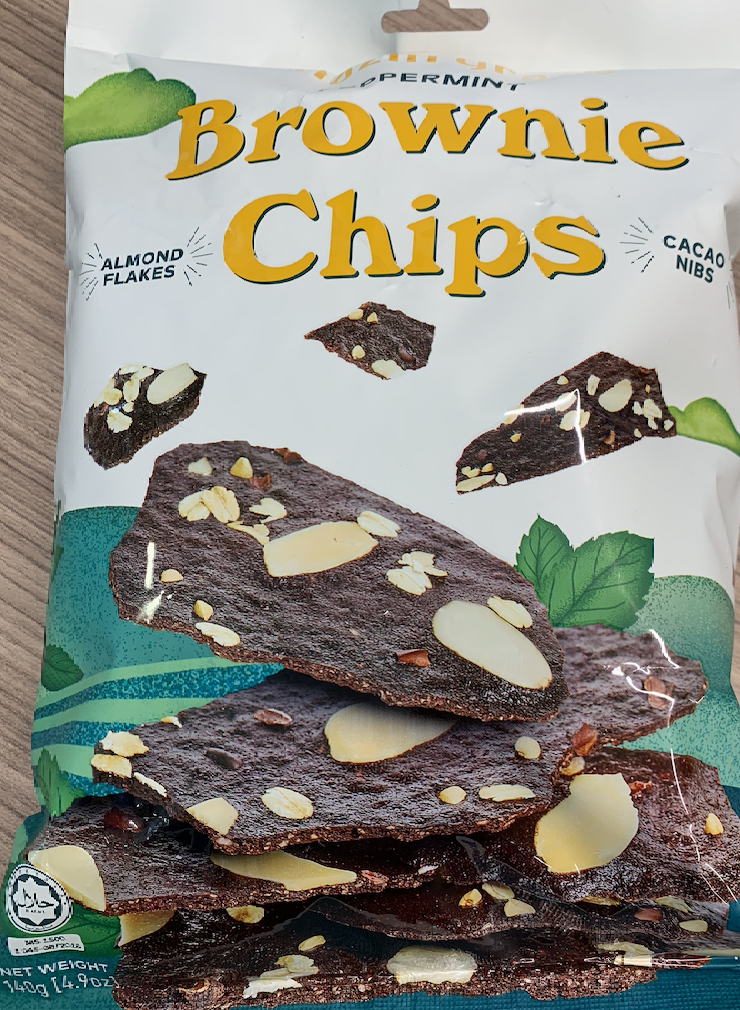cookies_150g: (37, 74, 695, 961)
